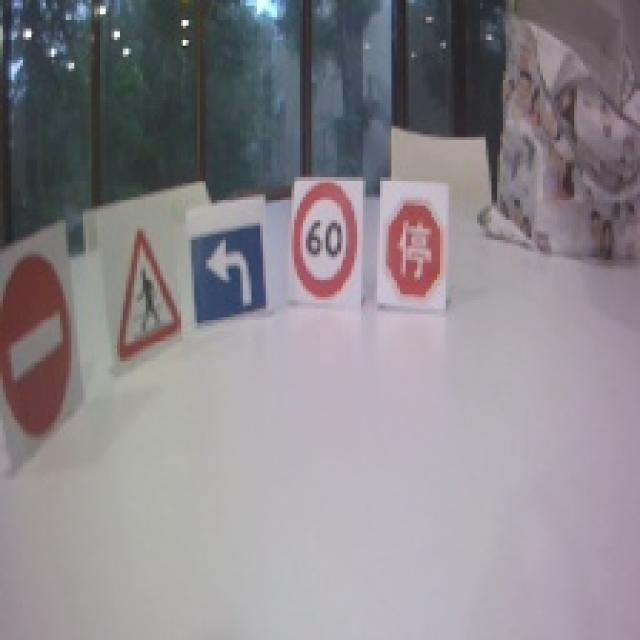DoNotEnterSign: (1, 251, 73, 439)
